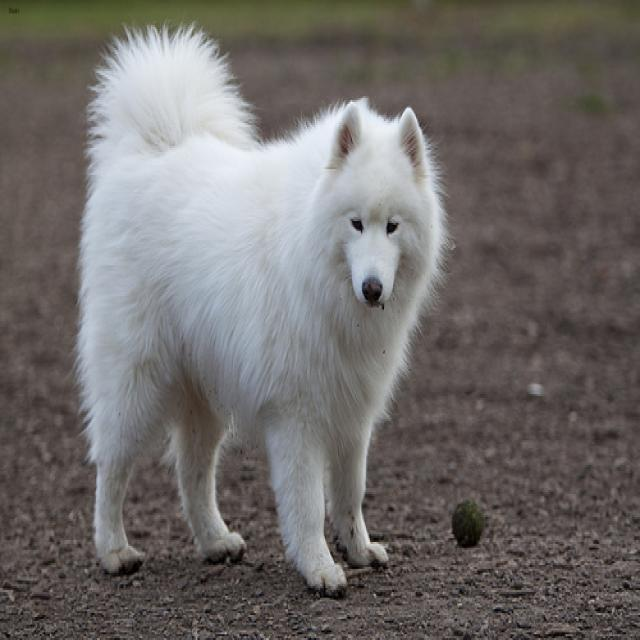dog-samoyed: (70, 15, 461, 607)
